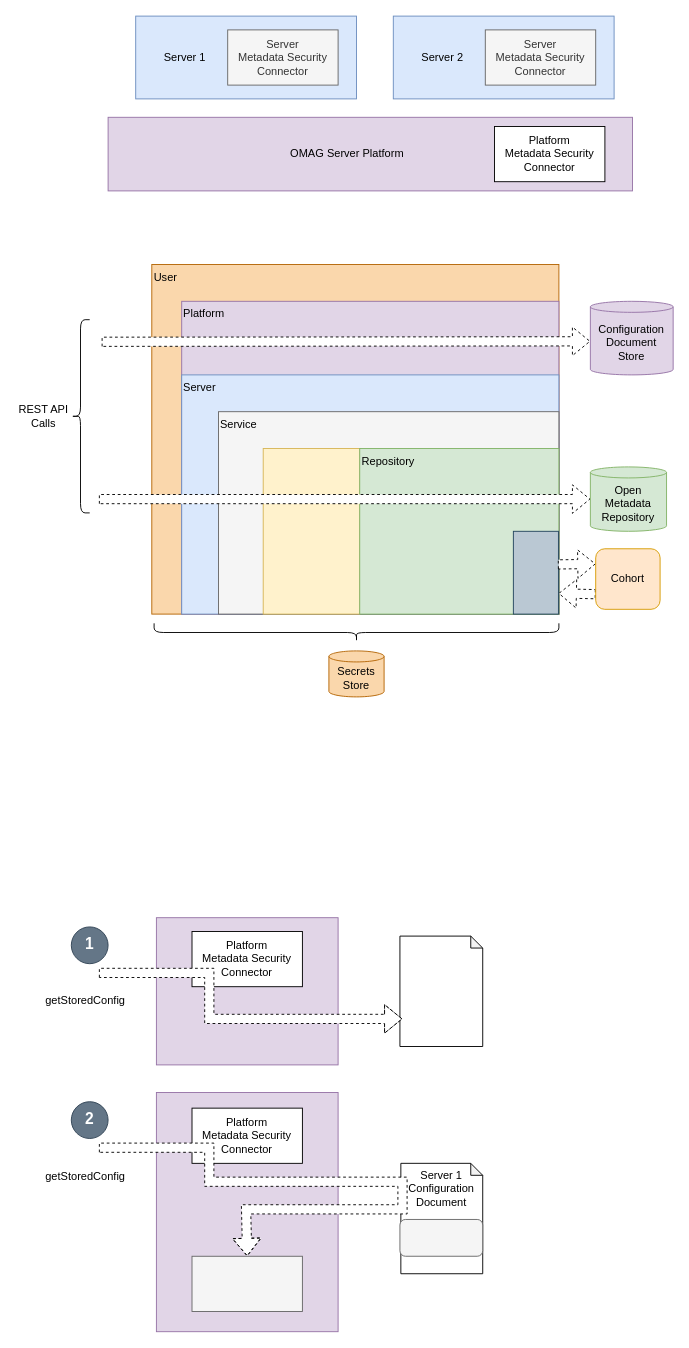
Image size: 689x1348. Some labels were removed from this diagram. The centre of each missing label's shape, as x and y in pixels:
"Element" belongs at point 311,531.
"Events" belongs at point 535,572.
"Server 1 Configuration Document (no server security connection)" belongs at point 441,990.
"Server 2 Security Connector" belongs at point 246,1283.
"Server Security Connection" belongs at point 441,1237.
